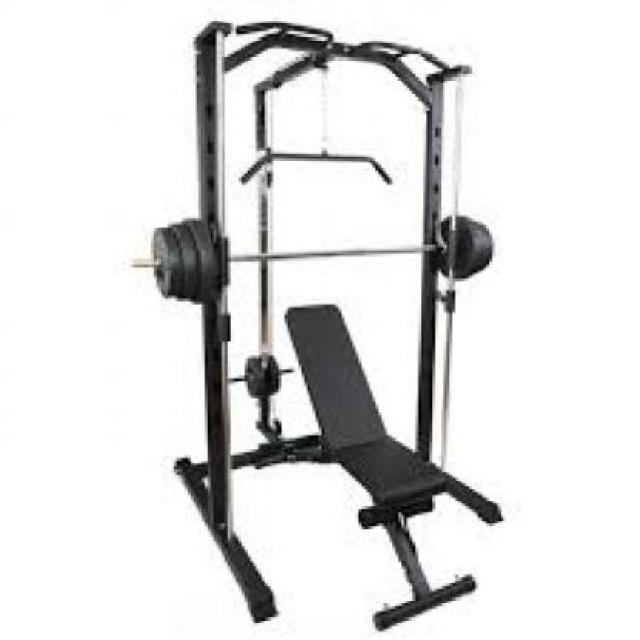smith machine: (128, 17, 504, 629)
